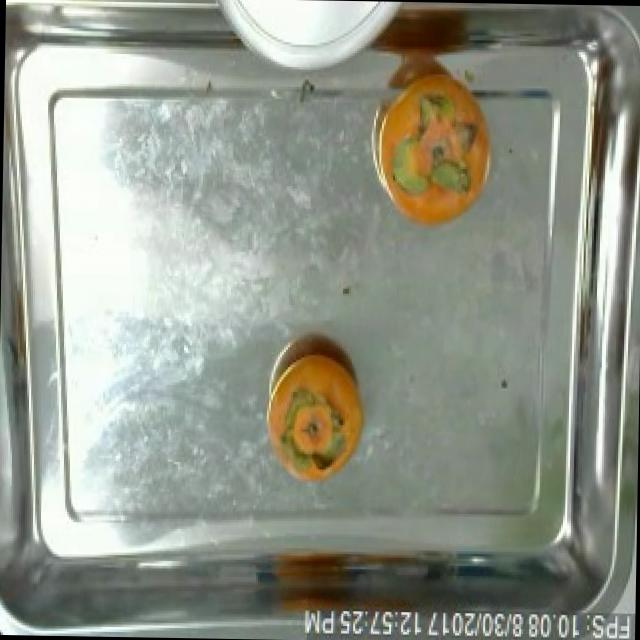Fruit: (358, 58, 500, 244), (262, 346, 370, 492)
